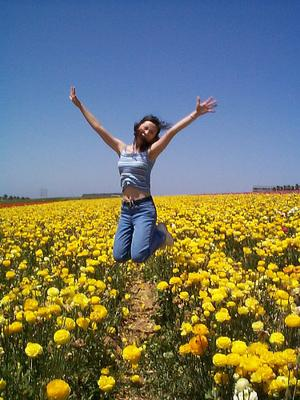person: (69, 84, 218, 270)
